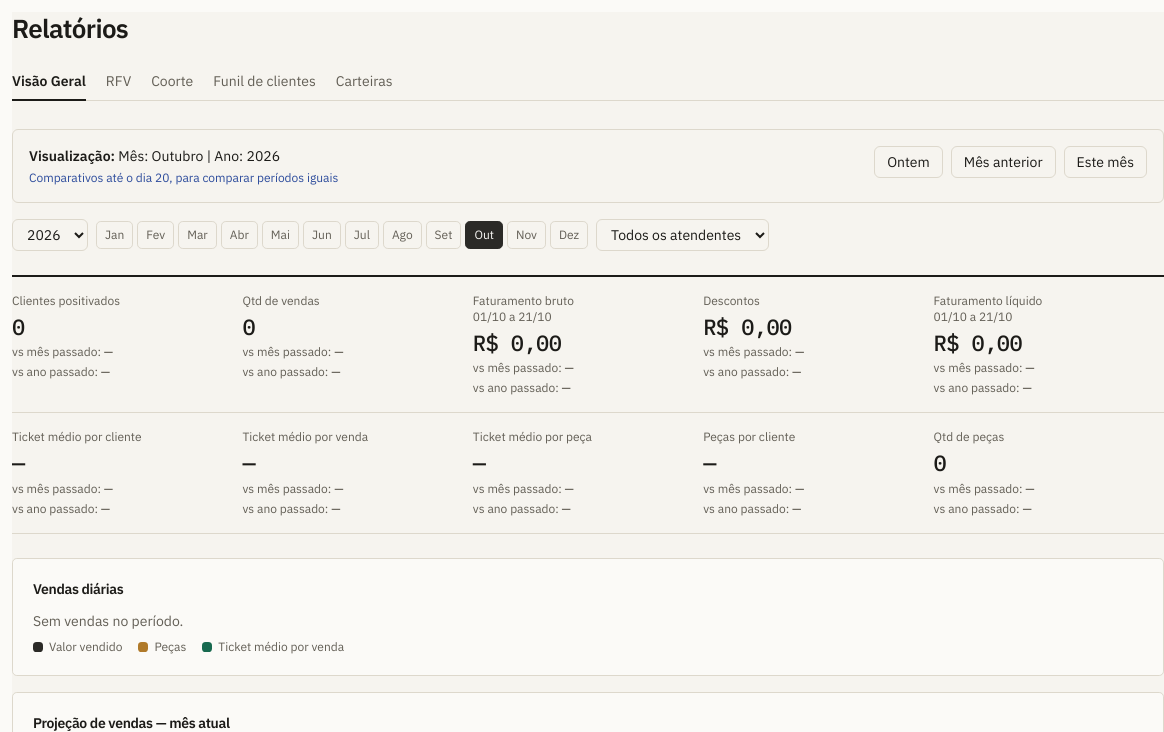
Test: B32-03 — tela Relatórios › CA-B32-03: 'Ontem', 'Mês anterior' e 'Este mês' pedem o período certo e o cabeçalho acompanha
The width and height of the screenshot is (1164, 732).
Expected: the text with test id "titulo-periodo" reads "Mês: Outubro | Ano: 2026", [118, 146, 280, 164]
Click the button "Ontem" at [908, 162], box [874, 146, 943, 178]
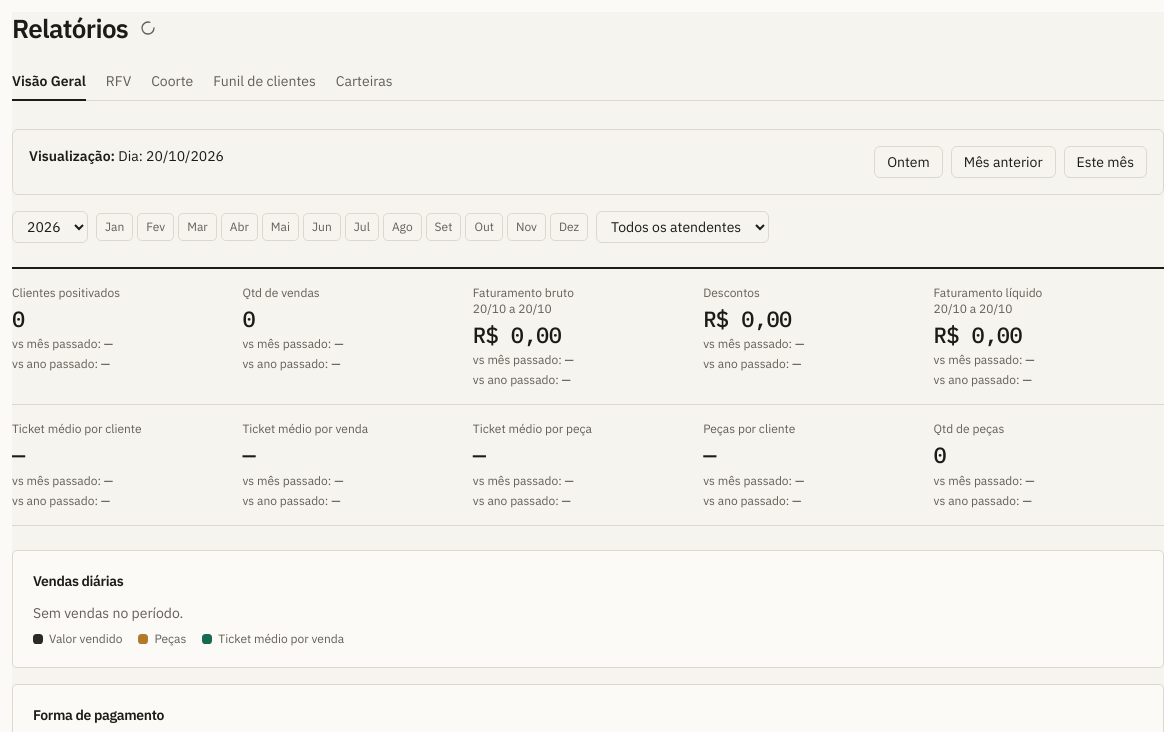
Now the text with test id "titulo-periodo" reads "Dia: 20/10/2026", box [118, 146, 224, 164]
Click the button "Mês anterior" at [1003, 162], box [951, 146, 1056, 178]
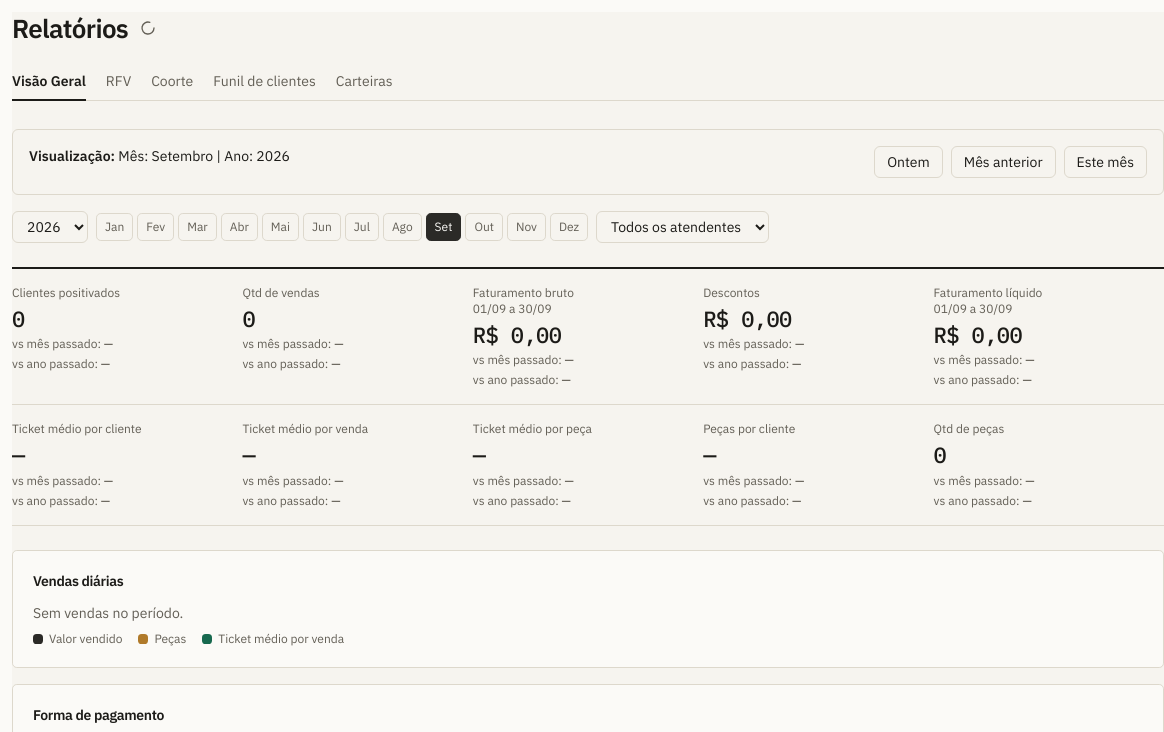
Now the text with test id "titulo-periodo" reads "Mês: Setembro | Ano: 2026", box [118, 146, 290, 164]
Click the button "Este mês" at [1105, 162], box [1064, 146, 1147, 178]
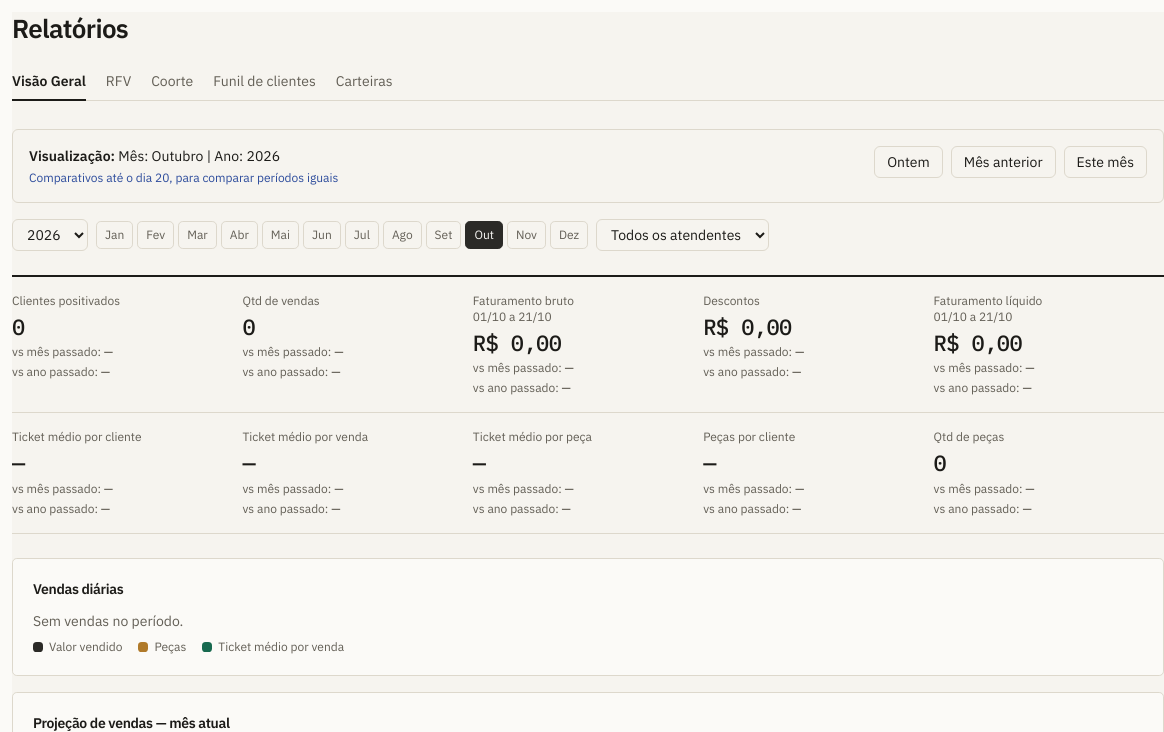
Now the text with test id "titulo-periodo" reads "Mês: Outubro | Ano: 2026", box [118, 146, 280, 164]
